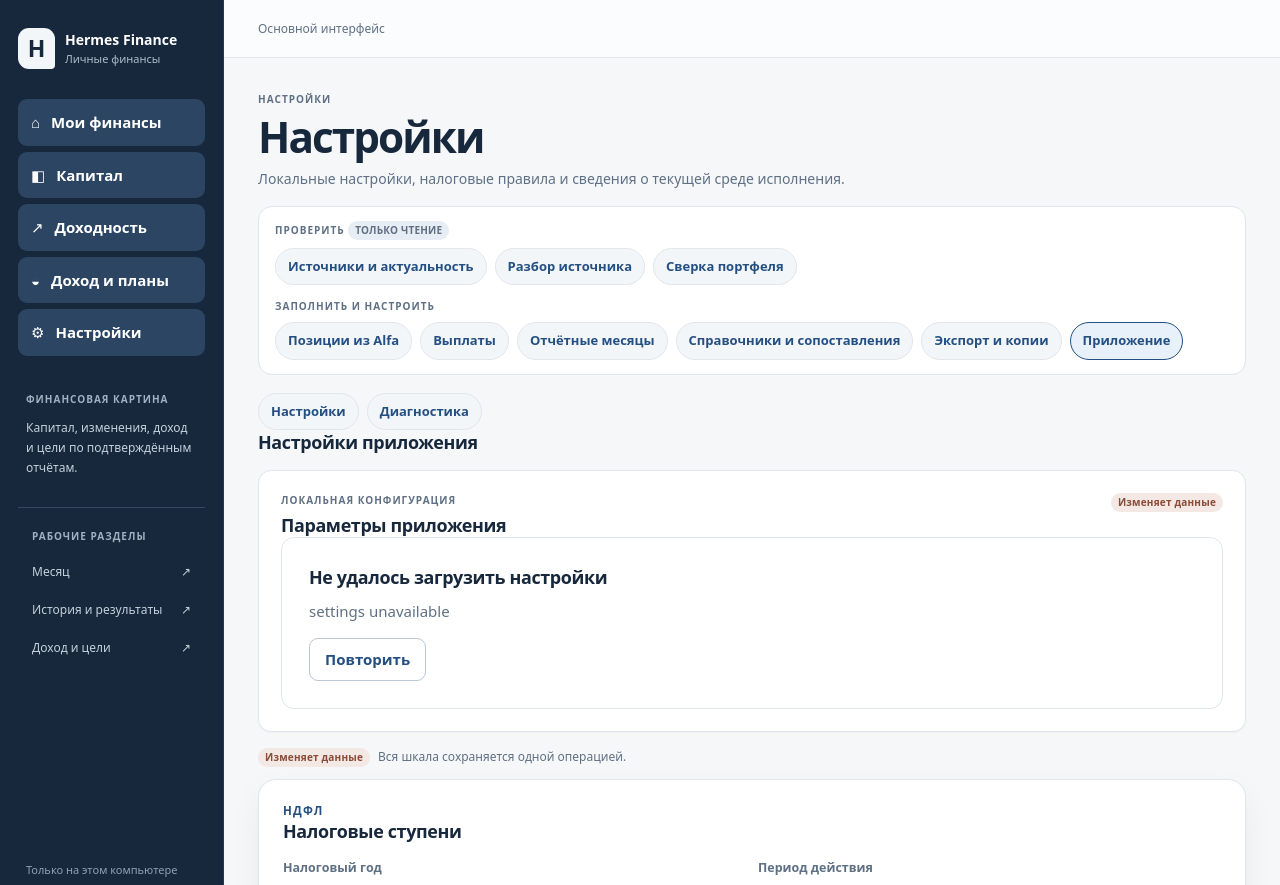
UI v2 Data/App › retries a failed settings read while leaving the other app sections available
Expected: the heading "Не удалось загрузить настройки" is shown, x1=309 y1=566 x2=607 y2=590
Click the button "Повторить": [368, 659] box x1=309 y1=638 x2=426 y2=681
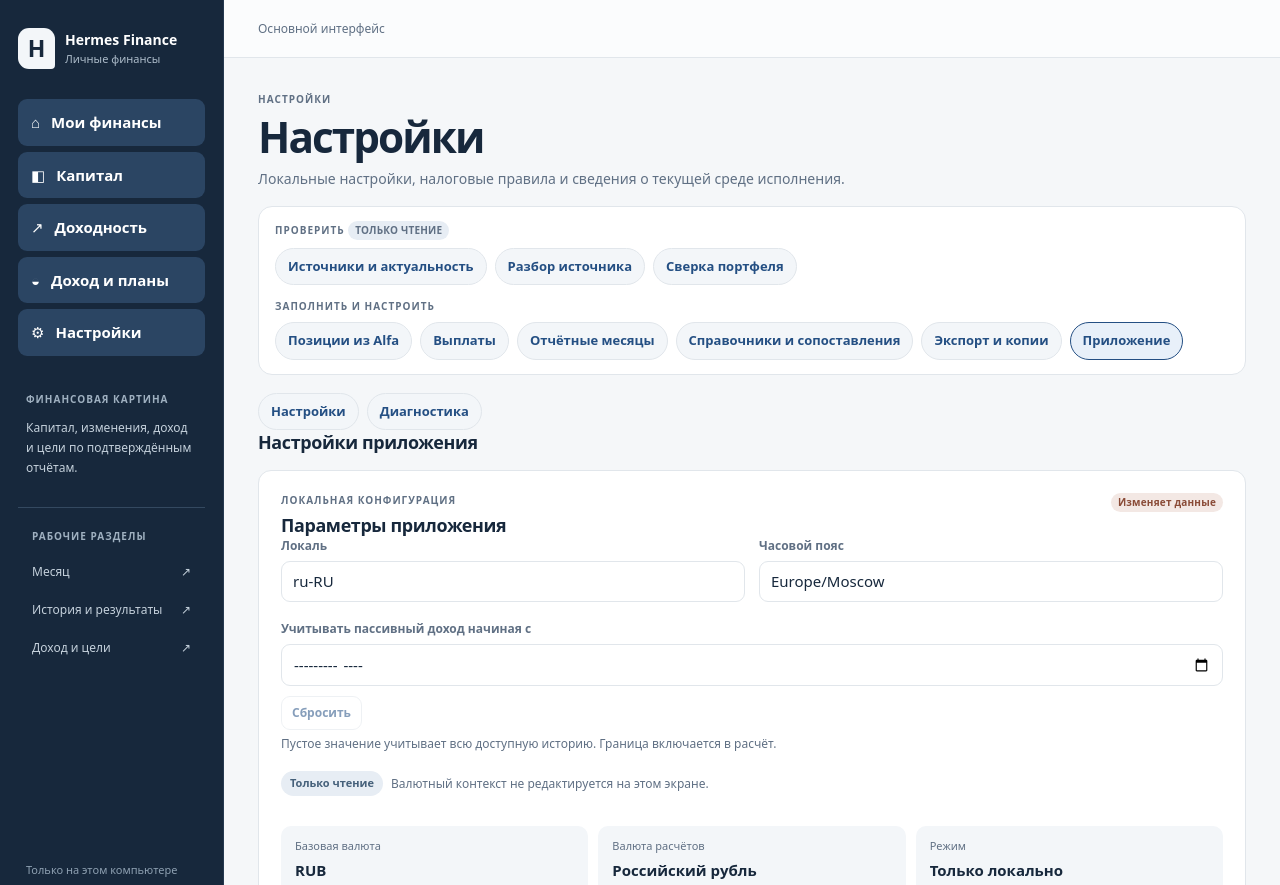
Expected: the field showing "ru-RU" is shown, x1=281 y1=562 x2=745 y2=602
